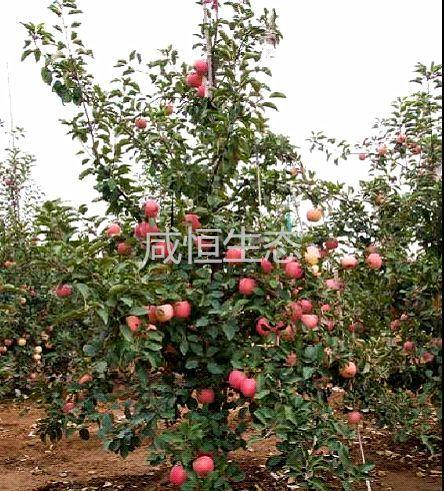apple: (228, 369, 247, 390), (172, 301, 190, 320), (154, 304, 172, 322), (240, 379, 258, 396), (192, 59, 209, 75), (184, 71, 201, 87)
